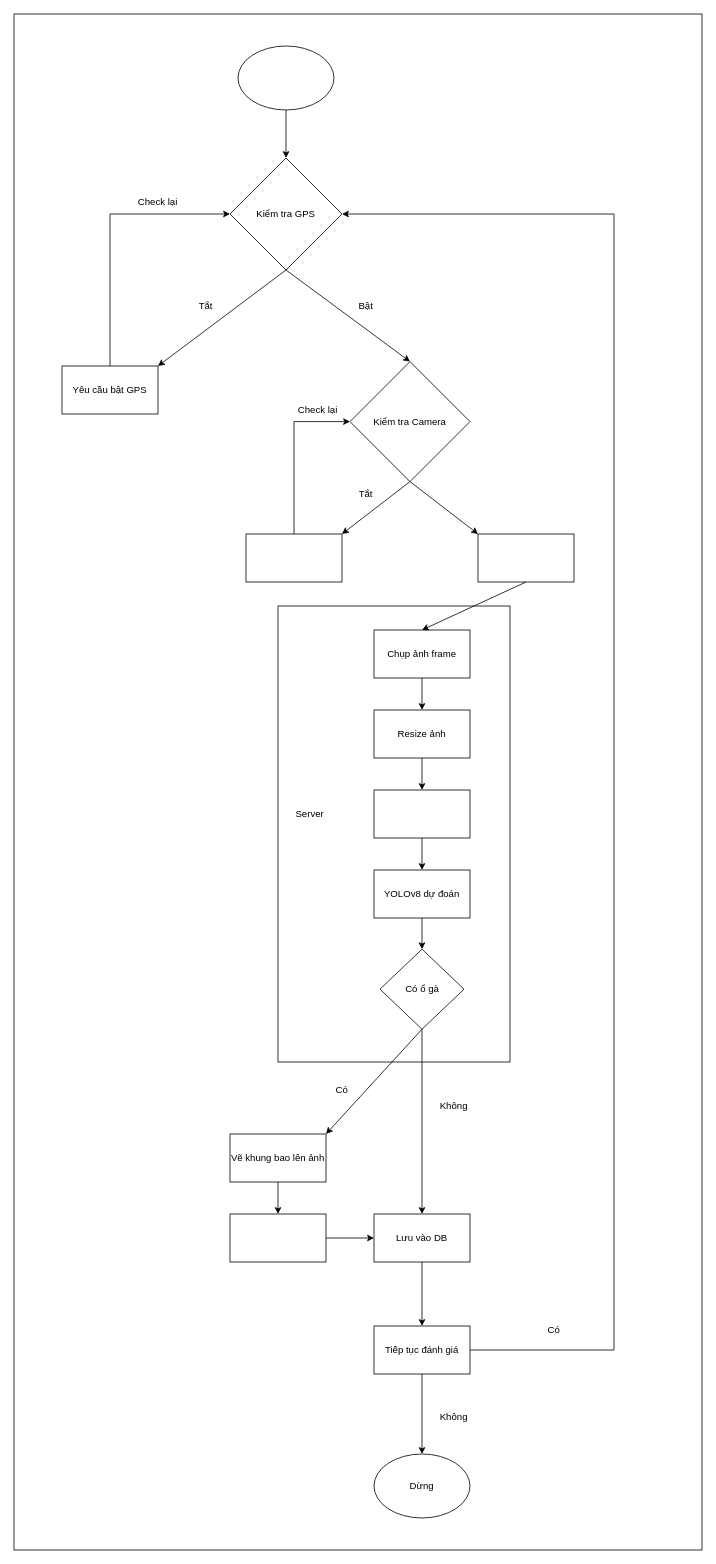
Image size: 716x1564. Some labels were removed from this diagram. The box of each missing label's shape, as (x1, y1, x2, y2) in pixels:
Bắt đầu: (237, 45, 334, 110)
Gửi ảnh lên Server: (373, 789, 470, 838)
Mở Camera: (477, 533, 574, 582)
Tính mức độ: (229, 1213, 326, 1262)
Yêu cầu quyền truy cập camera: (245, 533, 342, 582)
